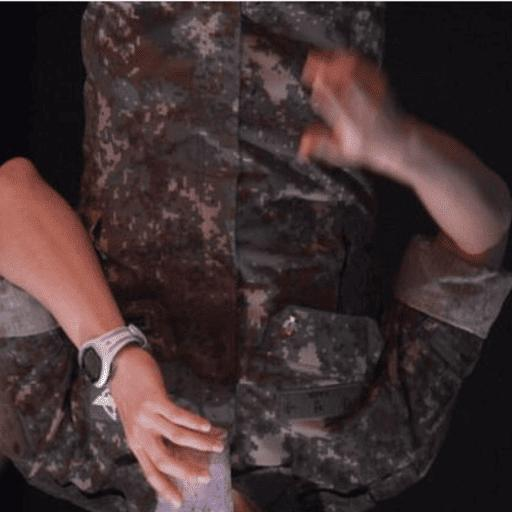korea army: (8, 0, 512, 507)
